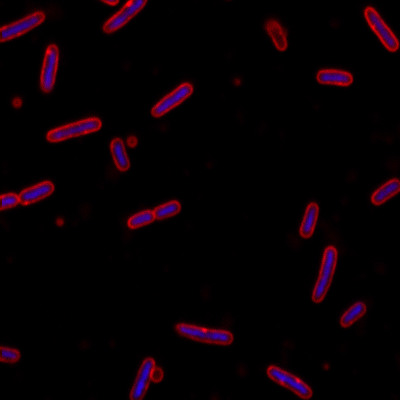Rifampicin: (264, 362, 315, 399), (174, 318, 235, 348), (149, 81, 194, 120), (309, 245, 339, 303), (362, 5, 398, 53), (43, 115, 102, 144), (126, 200, 182, 229), (37, 42, 62, 94), (107, 135, 132, 173), (338, 300, 369, 329), (314, 66, 354, 88), (298, 200, 320, 239), (369, 177, 397, 207)
Vesicle: (9, 95, 23, 109), (231, 73, 244, 88), (125, 134, 138, 147), (320, 360, 332, 372), (54, 217, 65, 228)
